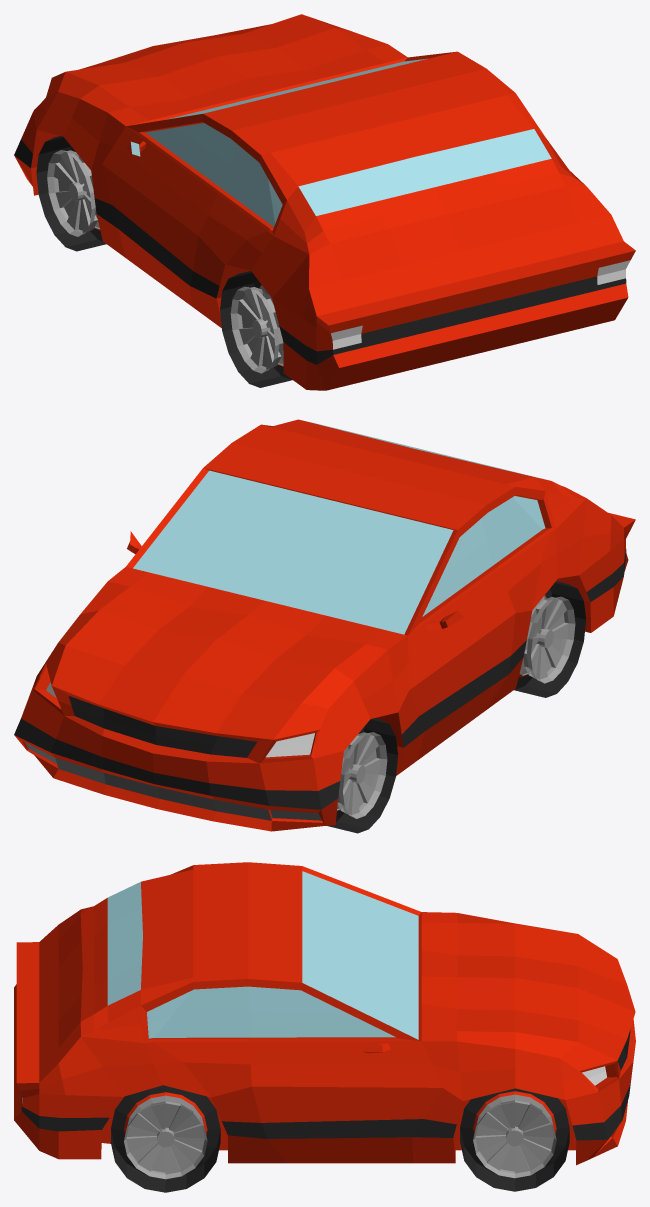
The model's file is car2.fbx.
3 renders of one model, top to bottom at view 1: azimuth 30°, elevation 25°; view 2: azimuth 150°, elevation 25°; view 3: azimuth 270°, elevation 25°, orthographic. The views are drawn at different scales.
Parts seen in each view (by area): view 1: Cube; view 2: Cube; view 3: Cube.
Boxes of the visible parts, x1,y1,x2,y2 form: Cube: (14,14,635,390); Cube: (14,419,635,833); Cube: (14,862,635,1192).
Size of the model in its own units: 225 by 139 by 388.
